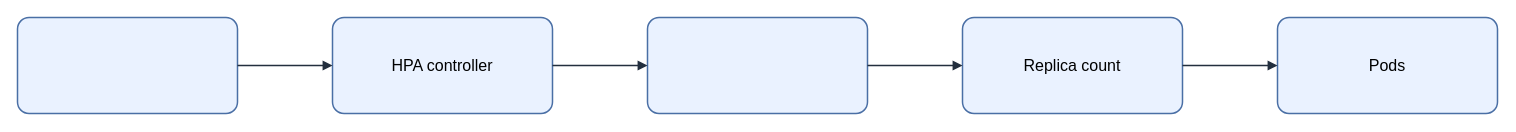
Some shapes in this 1516 by 132 pixel diagram are drawn without their labels. The centre of each missing label's shape, as x and y in pixels:
"Deployment" goes at point (757, 65).
"Metrics Server" goes at point (127, 65).
